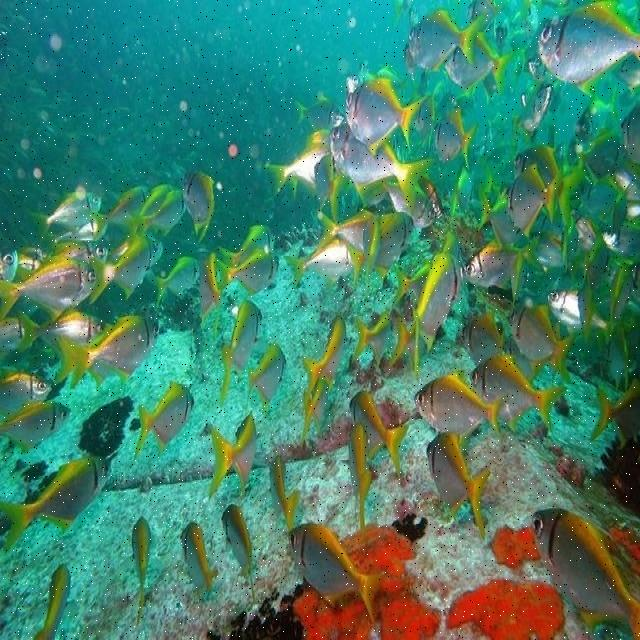fish: (532, 508, 639, 636), (0, 453, 120, 550), (330, 127, 434, 219), (541, 2, 639, 97), (290, 525, 386, 619), (473, 355, 565, 430), (428, 433, 490, 539), (414, 370, 509, 439), (73, 315, 156, 386), (347, 78, 424, 154), (0, 255, 94, 317), (409, 253, 456, 375), (88, 232, 164, 301), (353, 389, 411, 478), (132, 380, 194, 457), (515, 305, 576, 382), (411, 11, 483, 74), (18, 309, 108, 357), (207, 414, 257, 497), (221, 301, 262, 398), (509, 163, 565, 233), (303, 313, 348, 399), (0, 401, 71, 453), (285, 240, 352, 288), (216, 249, 278, 294), (183, 522, 219, 594), (148, 258, 202, 305), (38, 569, 71, 639), (132, 518, 153, 623), (183, 172, 216, 238)
